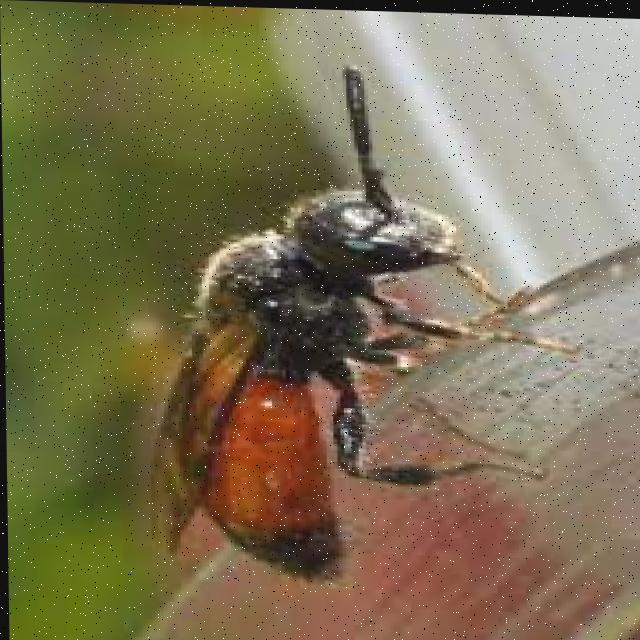Allodapula: (111, 49, 585, 601)
